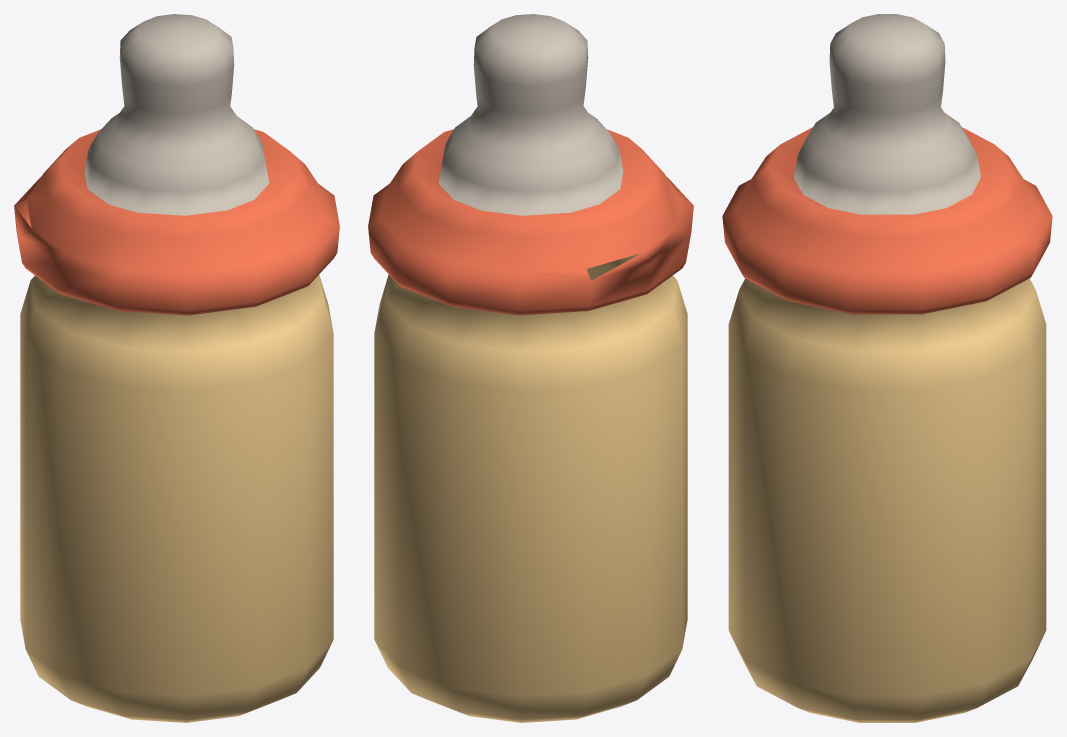
The model's file is comida_bebe.glb.
3 views of the same model, side by side, from view 1: azimuth 30°, elevation 25°; view 2: azimuth 150°, elevation 25°; view 3: azimuth 270°, elevation 25° (orthographic).
Visible parts, largest first — view 1: Baby_Bottle; view 2: Baby_Bottle; view 3: Baby_Bottle.
Part boxes in pixels (x1=…): Baby_Bottle: x1=14, y1=14, x2=339, y2=722; Baby_Bottle: x1=368, y1=14, x2=693, y2=722; Baby_Bottle: x1=722, y1=14, x2=1052, y2=722.
Size of the model in its own units: 0.6082 by 1.35 by 0.6238.
